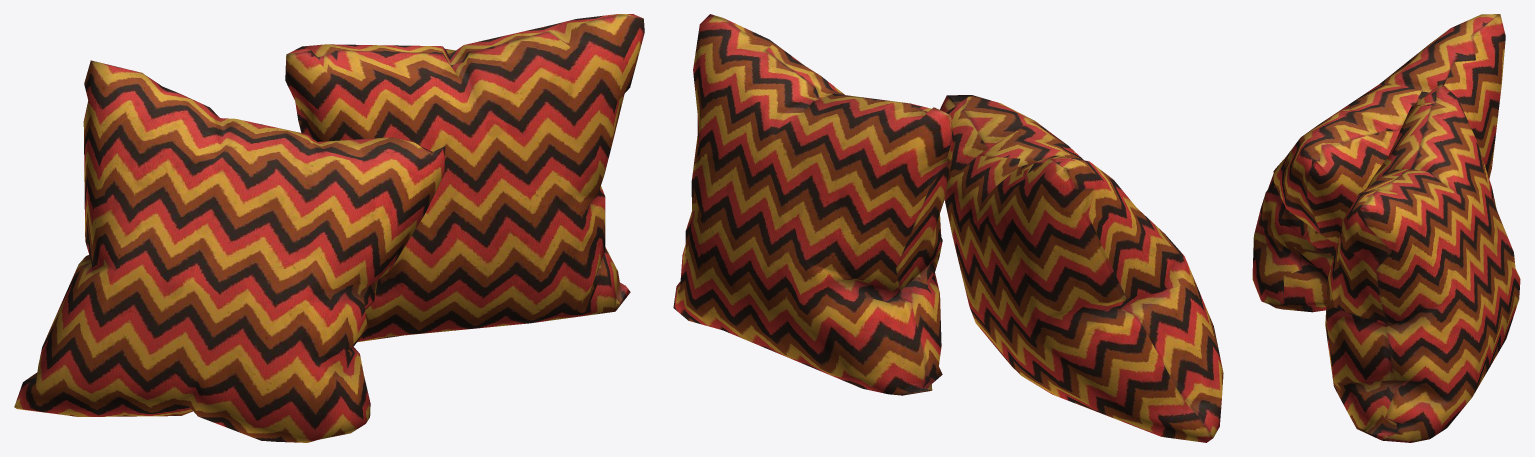
Rendered from throw_pillows_01.fbx.
3 views of the same model, side by side, from view 1: azimuth 30°, elevation 25°; view 2: azimuth 150°, elevation 25°; view 3: azimuth 270°, elevation 25° (orthographic). The views are drawn at different scales.
Visible parts, largest first — view 1: throw_pillows_01_pillow01, throw_pillows_01_pillow02; view 2: throw_pillows_01_pillow02, throw_pillows_01_pillow01; view 3: throw_pillows_01_pillow02, throw_pillows_01_pillow01.
Boxes of the visible parts, <box> form: throw_pillows_01_pillow01: <box>14,60,445,442</box>; throw_pillows_01_pillow02: <box>285,14,644,342</box>; throw_pillows_01_pillow02: <box>673,14,954,395</box>; throw_pillows_01_pillow01: <box>940,95,1223,442</box>; throw_pillows_01_pillow02: <box>1325,83,1520,442</box>; throw_pillows_01_pillow01: <box>1252,14,1505,312</box>.
Size of the model in its own units: 93.6 by 44.85 by 45.05.
1 material, 1 textured.
